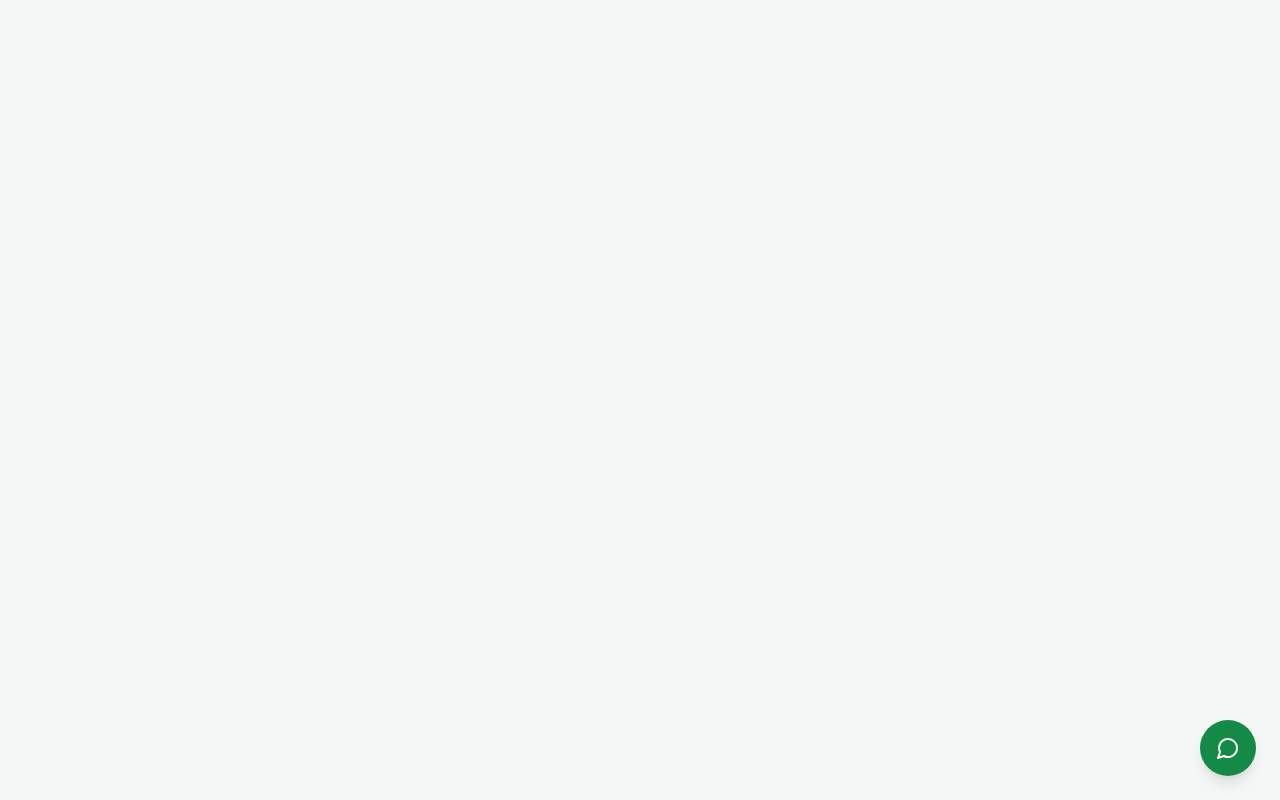
Test: Recipe chat › opens with the recipe's name and the five starter ideas
Click the button named "Open recipe chat" at (1228, 748), box x1=1200 y1=720 x2=1256 y2=776
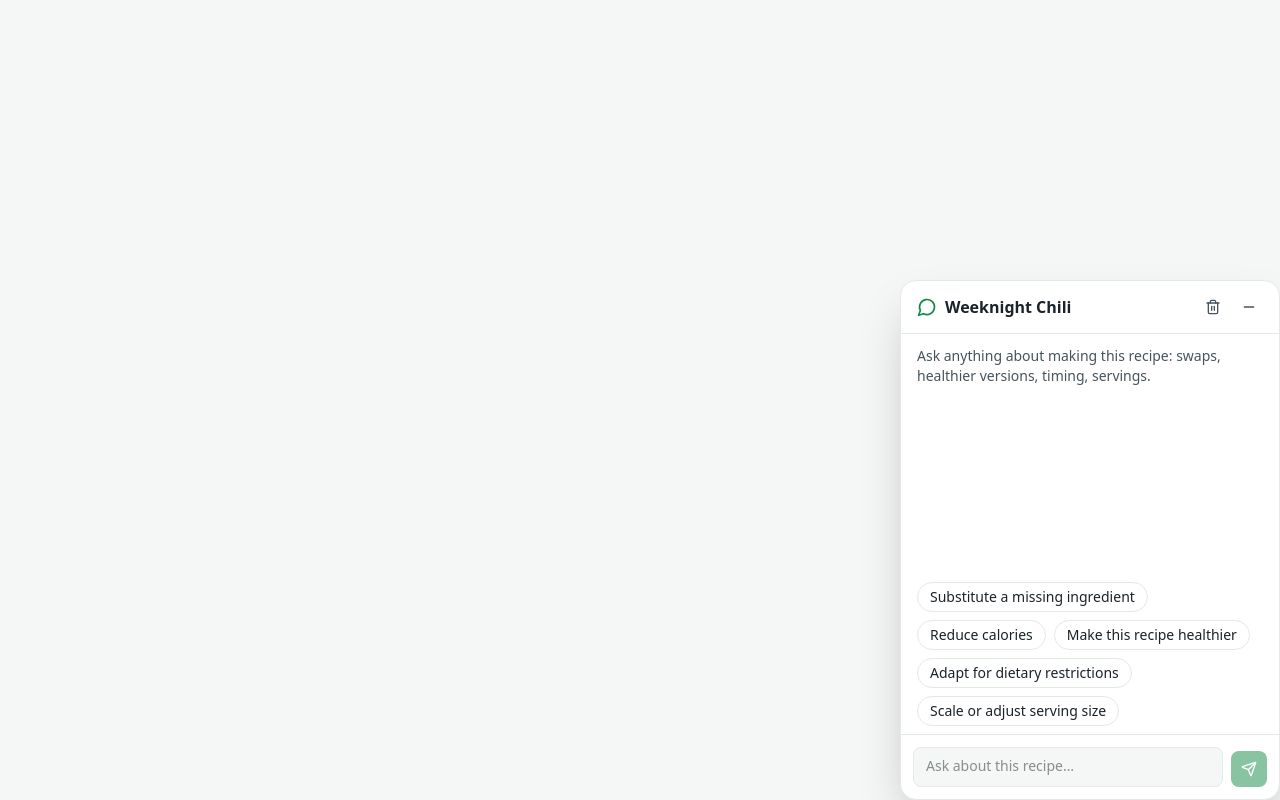
Check: the heading "Weeknight Chili" is shown, box x1=945 y1=296 x2=1072 y2=318
Check: the button "Substitute a missing ingredient" is shown, box x1=917 y1=582 x2=1148 y2=612
Check: the button "Reduce calories" is shown, box x1=917 y1=620 x2=1046 y2=650
